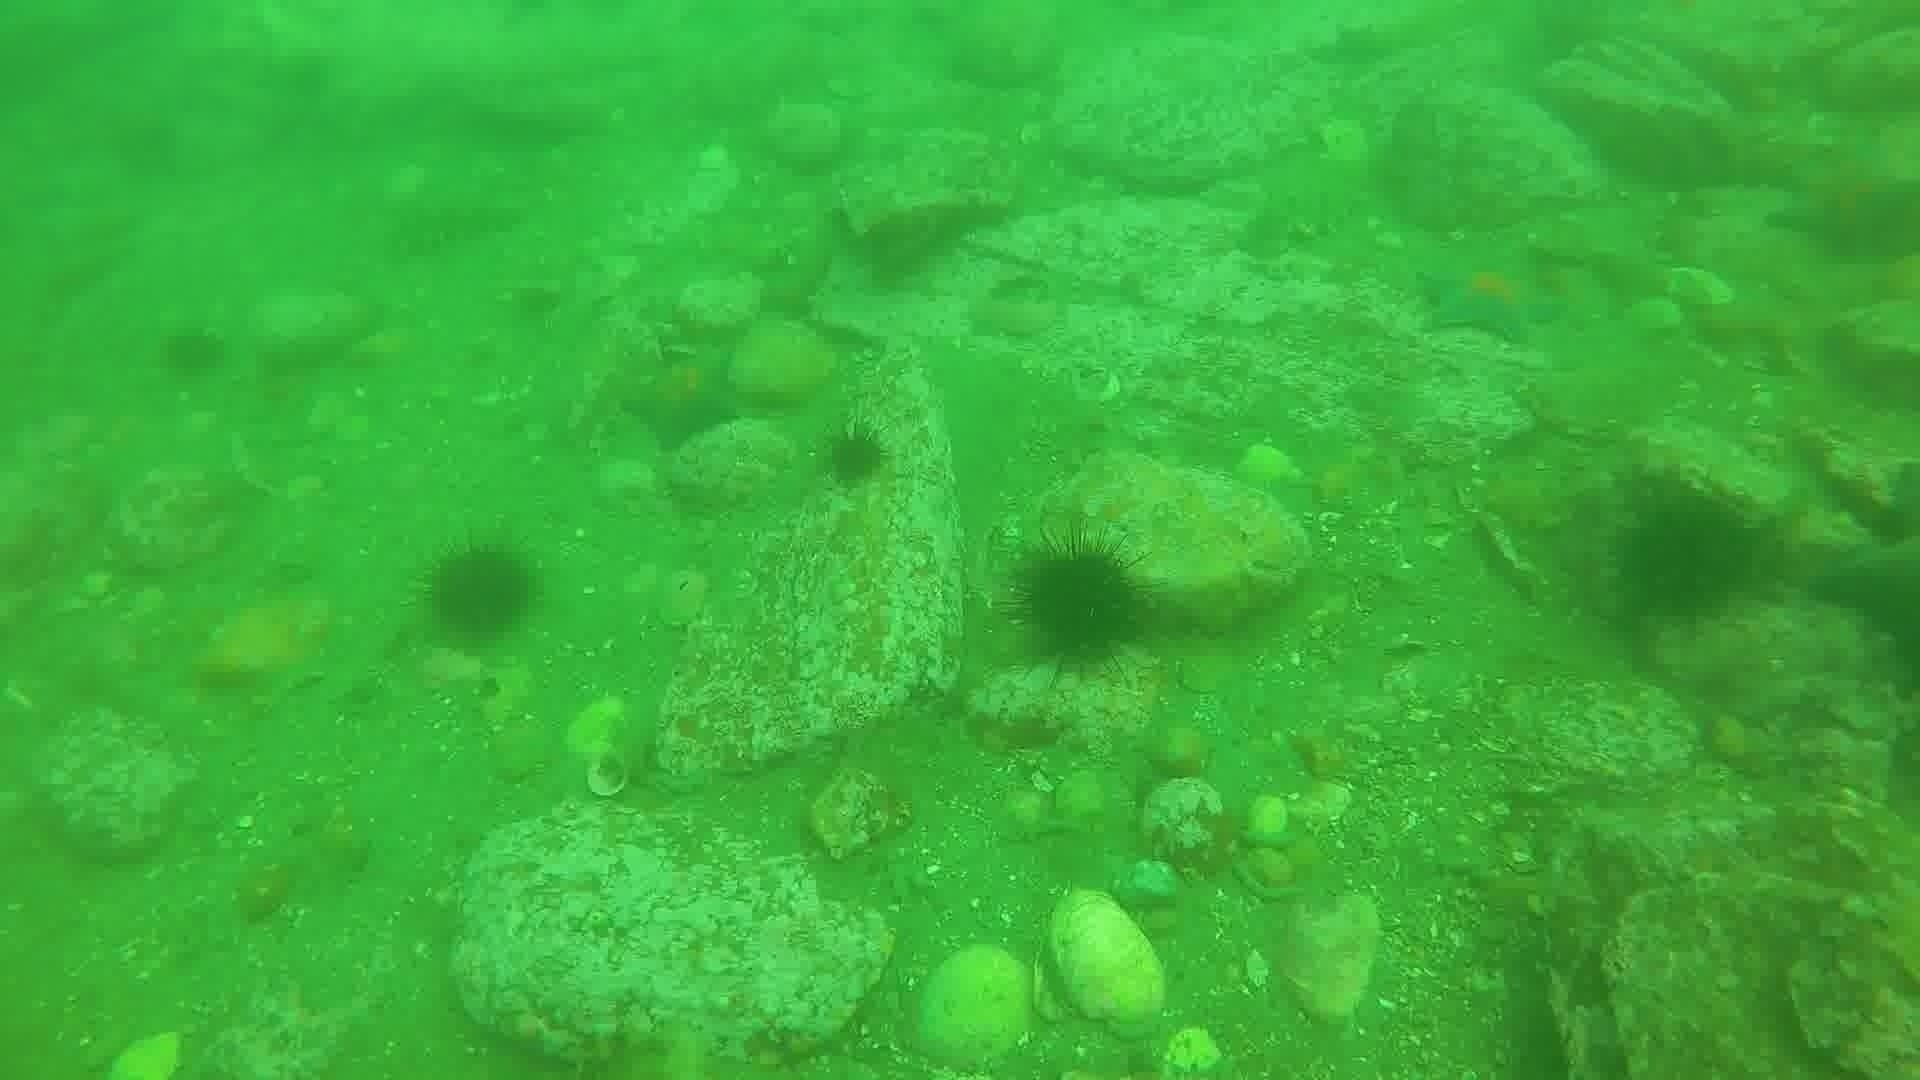echinus: (1609, 484, 1767, 626), (1007, 531, 1155, 676), (418, 538, 542, 650), (816, 419, 894, 493), (156, 320, 229, 384)
holothurian: (378, 185, 527, 260)
starfish: (1764, 138, 1917, 268), (616, 343, 750, 454), (1416, 251, 1563, 347)
